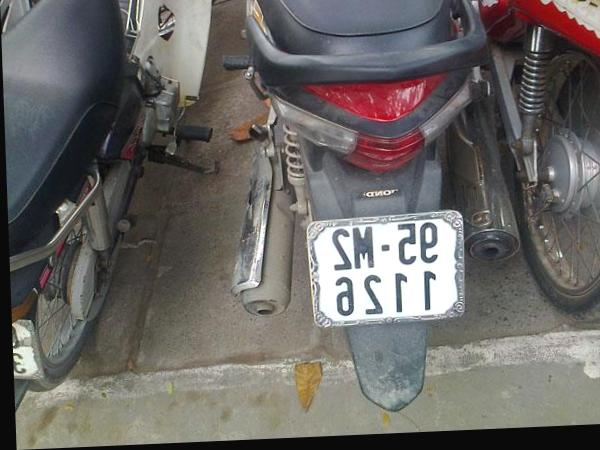License_Plate: (321, 211, 459, 320)
